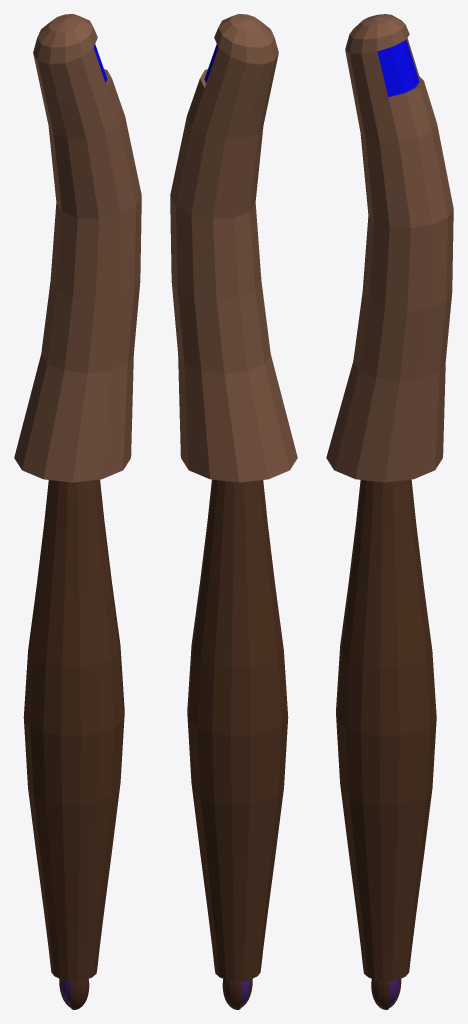
Rendered from Wand 147.glb.
3 views of the same model, side by side, from view 1: azimuth 30°, elevation 25°; view 2: azimuth 150°, elevation 25°; view 3: azimuth 330°, elevation 25° (orthographic).
Visible parts, largest first — view 1: GeneratedWand; view 2: GeneratedWand; view 3: GeneratedWand.
Boxes of the visible parts, x1,y1,x2,y2 form: GeneratedWand: (14,14,141,1009); GeneratedWand: (170,14,297,1009); GeneratedWand: (326,14,453,1009).
Size of the model in its own units: 0.0644 by 0.5349 by 0.0572.
